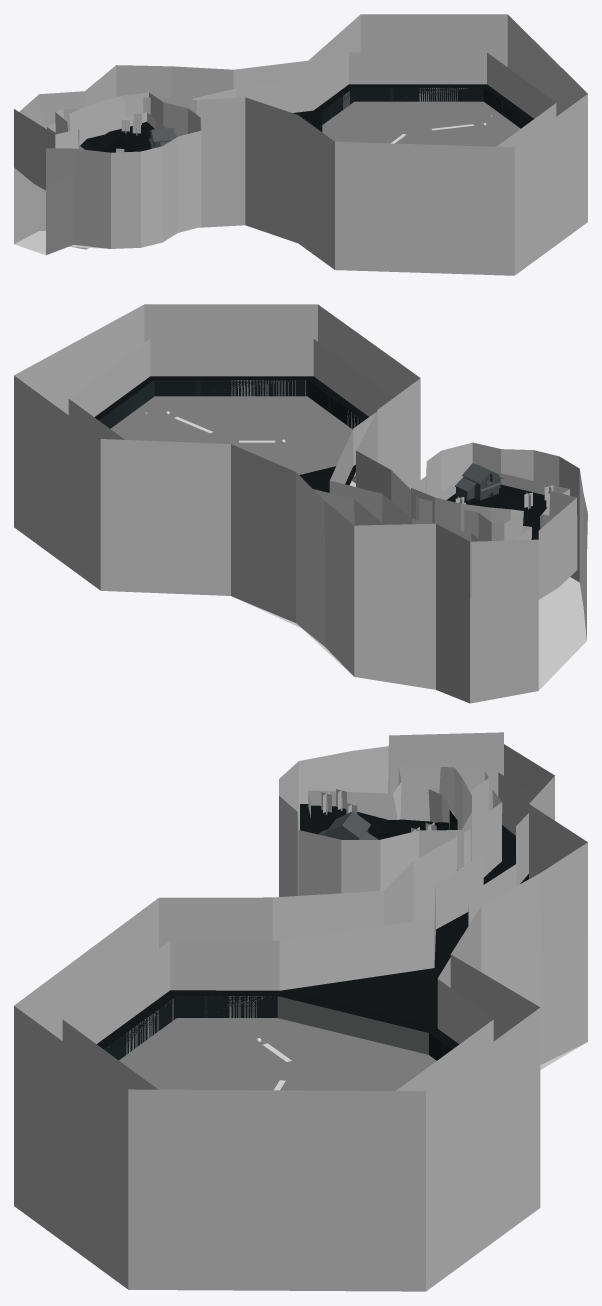
Rendered from somnum.fbx.
The picture shows the model from 3 angles, top to bottom: view 1: azimuth 30°, elevation 25°; view 2: azimuth 150°, elevation 25°; view 3: azimuth 270°, elevation 25°; orthographic projection. The views are drawn at different scales.
Parts seen in each view (by area): view 1: Cylinder.001, Cylinder.002, Cylinder.010, Cylinder.009, Cube.003; view 2: Cylinder.001, Cylinder.002, Cylinder.010, Cylinder.009, Cube.003; view 3: Cylinder.001, Cylinder.002, Cylinder.010, Cylinder.009, Cube.003.
Part boxes in pixels (box(x1,y1,x2,y2)): Cylinder.001: box(14, 14, 587, 275); Cylinder.002: box(14, 52, 556, 190); Cylinder.010: box(312, 84, 533, 146); Cylinder.009: box(80, 87, 529, 152); Cube.003: box(149, 127, 175, 148); Cylinder.001: box(14, 304, 587, 703); Cylinder.002: box(68, 338, 577, 599); Cylinder.010: box(94, 376, 368, 479); Cylinder.009: box(99, 380, 547, 539); Cube.003: box(455, 463, 503, 500); Cylinder.001: box(14, 744, 587, 1291); Cylinder.002: box(62, 732, 535, 1091); Cylinder.010: box(97, 990, 458, 1090); Cylinder.009: box(104, 804, 528, 1060); Cube.003: box(318, 811, 378, 839).
Bounding box in the file's own units: 792 × 237 × 533.
